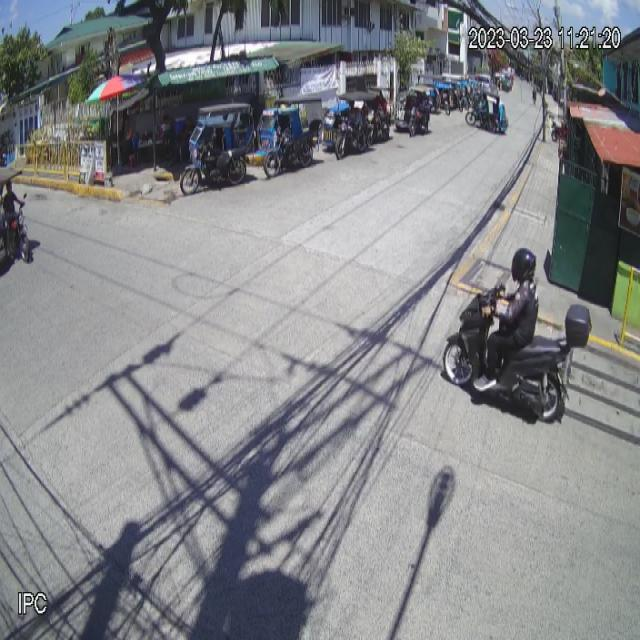Motorcycle: (441, 283, 594, 426)
